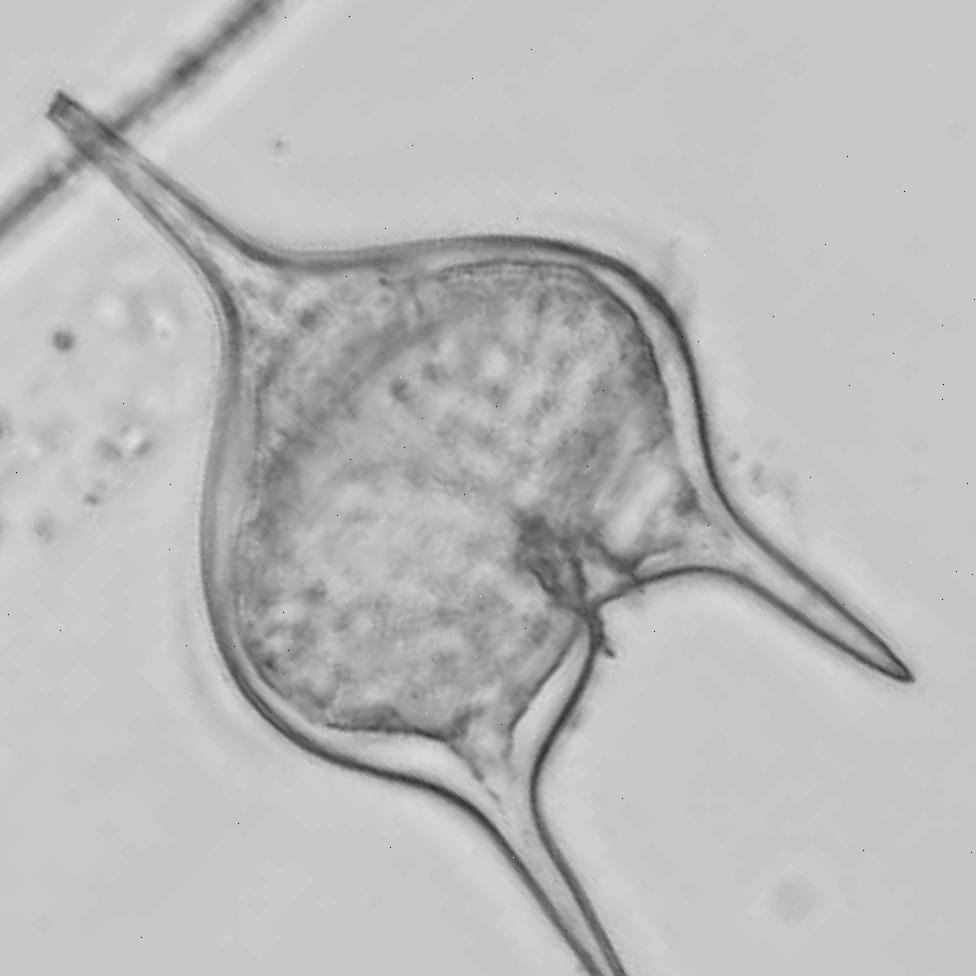protoperidinium_oceanicum: (50, 92, 909, 976)
